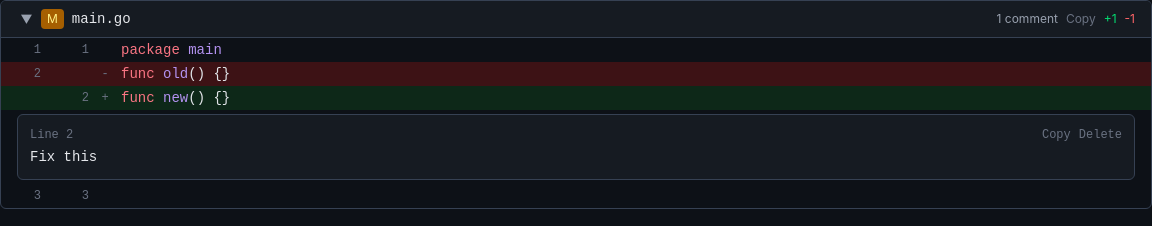
it: DiffViewer › file-level copy button › shows Copied! feedback after click
Click the button with aria-label "Copy file comments" at x=1081, y=19, box [1066,11,1096,27]
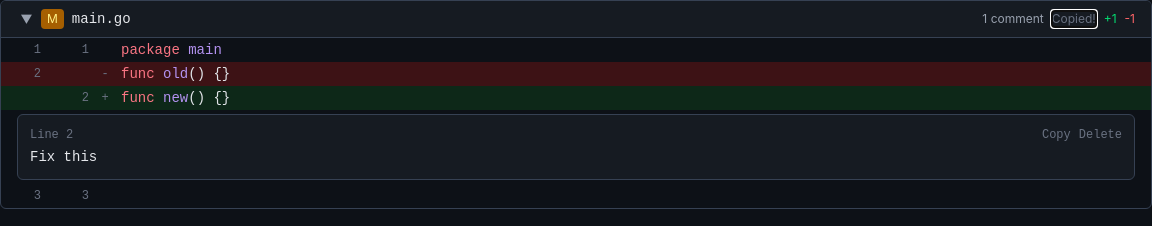
Expected: the button "Copied!" is shown, [1052,11,1096,27]
